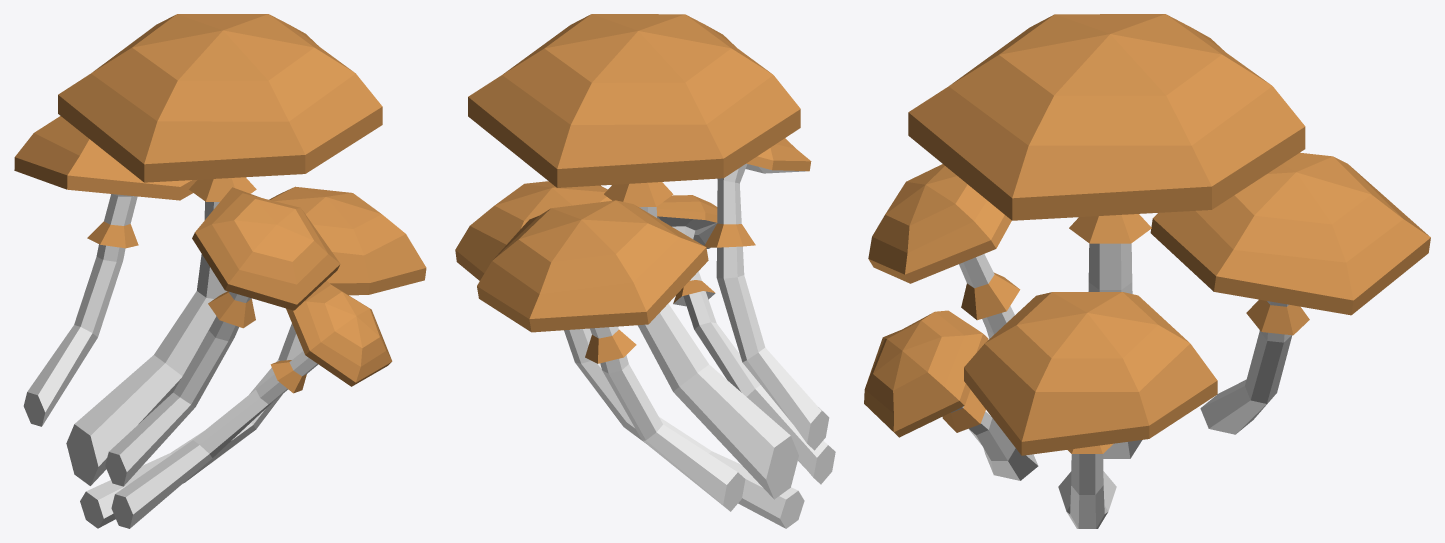
Rendered from honey_mushroom.fbx.
3 views of the same model, side by side, from view 1: azimuth 30°, elevation 25°; view 2: azimuth 150°, elevation 25°; view 3: azimuth 270°, elevation 25° (orthographic). The views are drawn at different scales.
Parts seen in each view (by area): view 1: honey_mushroom; view 2: honey_mushroom; view 3: honey_mushroom.
Boxes of the visible parts, x1,y1,x2,y2 form: honey_mushroom: [14, 14, 426, 528]; honey_mushroom: [455, 14, 835, 528]; honey_mushroom: [864, 14, 1430, 528].
Bounding box in the file's own units: 42.68 × 59.91 × 55.55.
